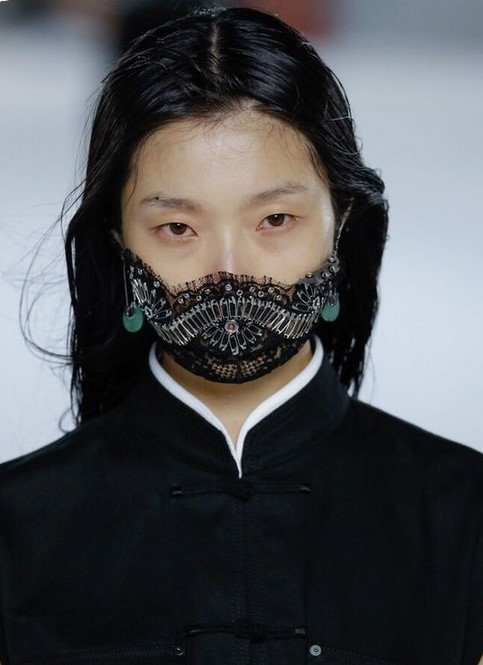face_with_mask: (101, 17, 355, 381)
